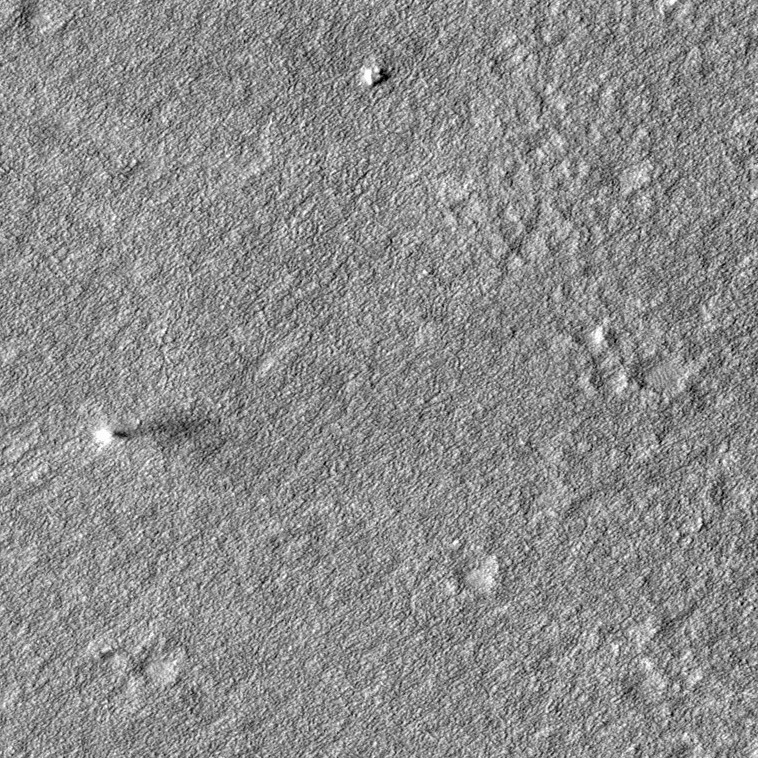dust_devil: (91, 415, 210, 449)
